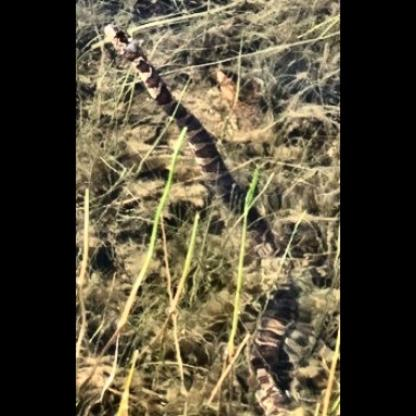Snake: (104, 21, 284, 260)
